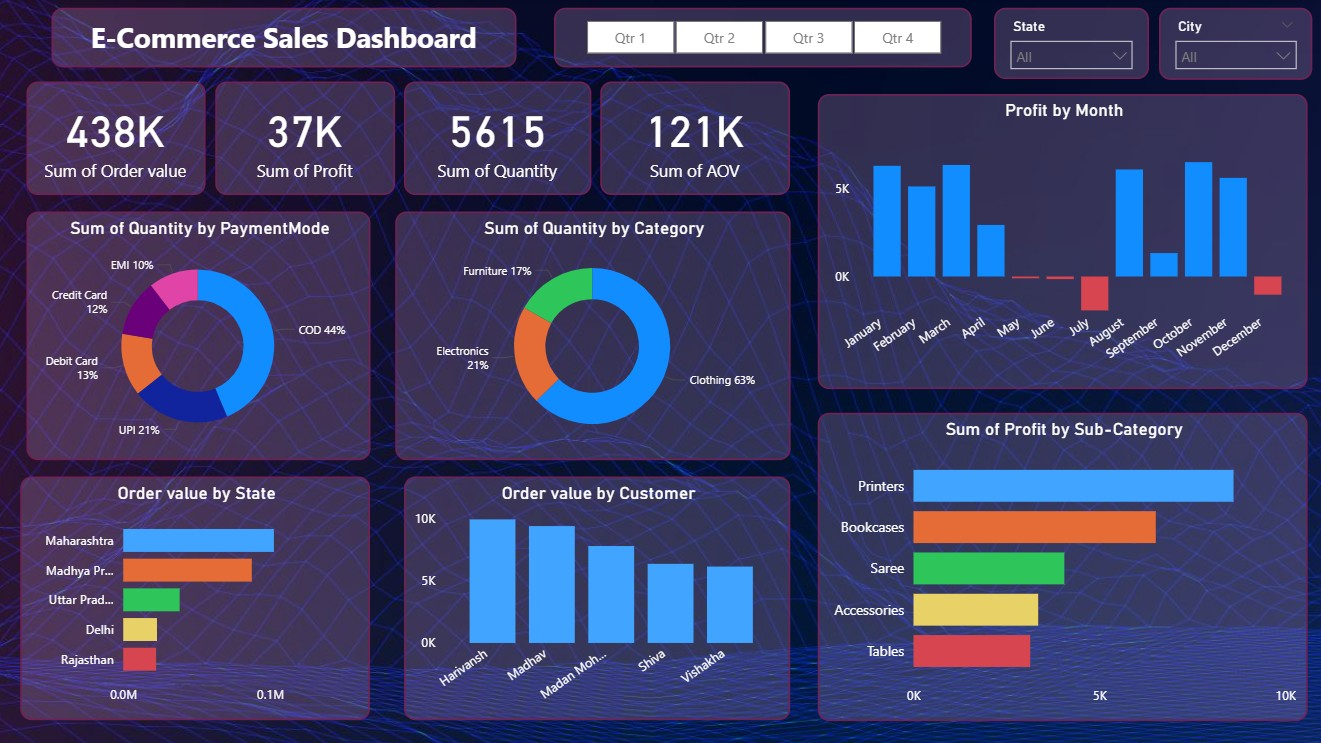

The page's visual inventory and layout, read from the dashboard file:
{"tool":"powerbi","page":{"name":"Page 1","canvas":[1280,720],"ordinal":0},"visuals":[{"type":"textbox","box":[50.7,8.4,448.8,57.9],"z":0},{"type":"columnChart","title":"Profit by Month","fields":{"Y":["Sum(Details.Profit)"],"Category":["Orders.Order Date.Variation.Date Hierarchy.Month"]},"box":[790.2,91.7,472.9,284.7],"z":1000},{"type":"clusteredBarChart","fields":{"Category":["Details.Sub-Category"],"Y":["Sum(Details.Profit)"]},"box":[790.2,399.3,472.9,298],"z":2000},{"type":"donutChart","fields":{"Category":["Details.Category"],"Y":["Sum(Details.Quantity)"]},"box":[382.4,205.1,381.2,240.1],"z":3000},{"type":"donutChart","fields":{"Y":["Sum(Details.Quantity)"],"Category":["Details.PaymentMode"]},"box":[26.5,205.1,331.8,240.1],"z":4000},{"type":"card","fields":{"Values":["Sum(Details.Amount)"]},"box":[26.5,79.6,172.5,109.8],"z":5000},{"type":"card","fields":{"Values":["Sum(Details.Profit)"]},"box":[208.7,79.6,173.7,109.8],"z":6000},{"type":"card","fields":{"Values":["Sum(Details.Quantity)"]},"box":[390.9,79.6,181,109.8],"z":7000},{"type":"card","fields":{"Values":["Sum(Details.Order Value)"]},"box":[580.3,79.6,183.4,109.8],"z":8000},{"type":"clusteredBarChart","title":"Order value by State","fields":{"Category":["Orders.State"],"Y":["Sum(Details.Order value)"]},"box":[20.5,460.9,337.8,235.3],"z":9000},{"type":"slicer","fields":{"Values":["Orders.Order Date.Variation.Date Hierarchy.Quarter"]},"box":[535.2,8.2,403.4,57.6],"z":10000},{"type":"slicer","fields":{"Values":["Orders.State"]},"box":[960.6,8.2,149.6,68.6],"z":11000},{"type":"slicer","fields":{"Values":["Orders.City"]},"box":[1119.7,8.2,148.2,70],"z":12000},{"type":"columnChart","title":"Order value by Customer","fields":{"Category":["Orders.CustomerName"],"Y":["Sum(Details.Order value)"]},"box":[390.9,460.9,372.8,235.3],"z":13000}]}

Visuals, with their boxes in screenshot pixels (x1, y1, x2, y2), scaled from the page's 1280x720 canvas onto the 1321x743 screenshot:
textbox: region(52, 9, 515, 68)
"Profit by Month" columnChart: region(816, 95, 1304, 388)
clusteredBarChart - Details.Sub-Category x Sum(Details.Profit): region(816, 412, 1304, 720)
donutChart - Details.Category x Sum(Details.Quantity): region(395, 212, 788, 459)
donutChart - Sum(Details.Quantity) x Details.PaymentMode: region(27, 212, 370, 459)
card - Sum(Details.Amount): region(27, 82, 205, 195)
card - Sum(Details.Profit): region(215, 82, 395, 195)
card - Sum(Details.Quantity): region(403, 82, 590, 195)
card - Sum(Details.Order Value): region(599, 82, 788, 195)
"Order value by State" clusteredBarChart: region(21, 476, 370, 718)
slicer - Orders.Order Date.Variation.Date Hierarchy.Quarter: region(552, 8, 969, 68)
slicer - Orders.State: region(991, 8, 1146, 79)
slicer - Orders.City: region(1156, 8, 1309, 81)
"Order value by Customer" columnChart: region(403, 476, 788, 718)
